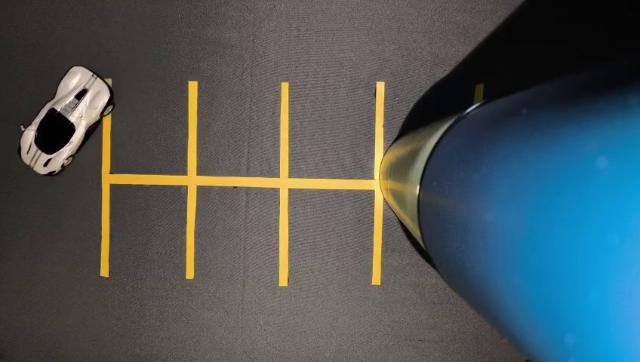toy_car: (10, 54, 130, 186)
